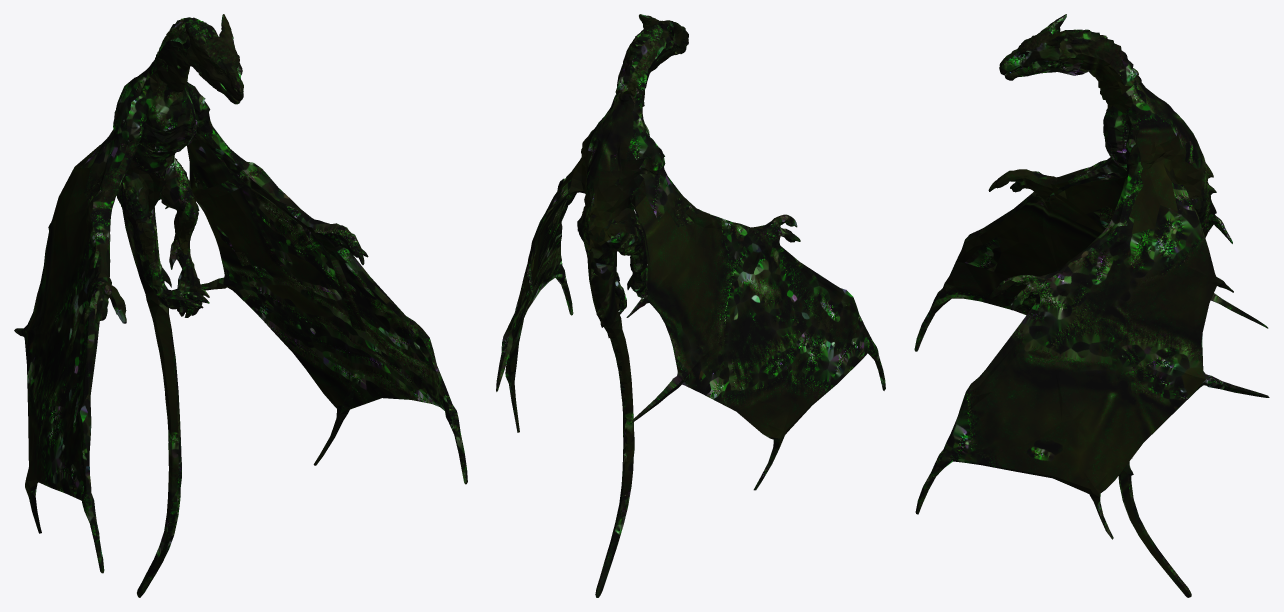
Rendered from frame_0001_uv.obj.
3 views of the same model, side by side, from view 1: azimuth 30°, elevation 25°; view 2: azimuth 150°, elevation 25°; view 3: azimuth 270°, elevation 25° (orthographic). The views are drawn at different scales.
Parts seen in each view (by area): view 1: pMesh1; view 2: pMesh1; view 3: pMesh1.
Boxes of the visible parts, x1,y1,x2,y2 form: pMesh1: (14, 14, 467, 597); pMesh1: (496, 14, 885, 597); pMesh1: (914, 14, 1269, 597).
Bounding box in the file's own units: 6.97 × 11.17 × 6.25.
